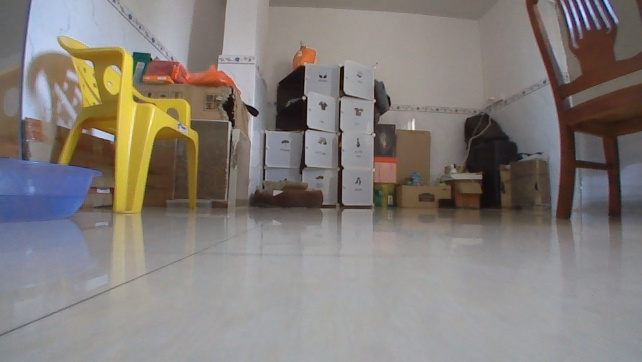wire: (458, 113, 493, 170)
